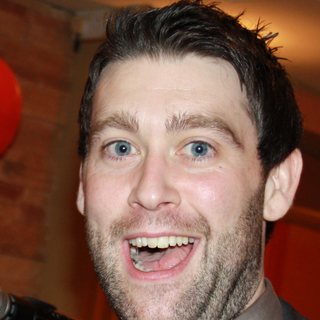eye: (97, 136, 147, 164), (173, 136, 221, 164)
